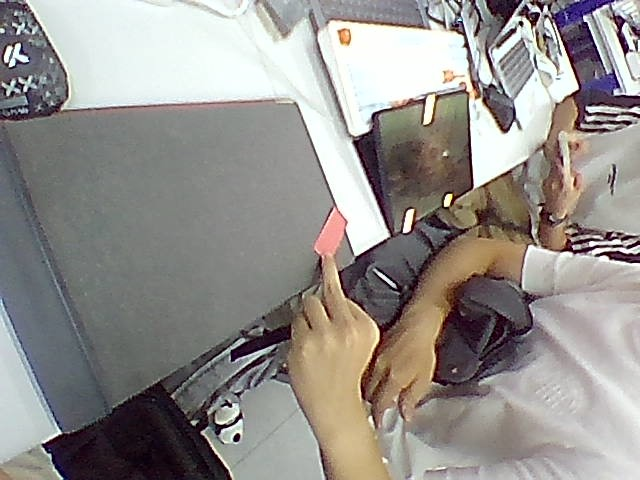card: (313, 207, 348, 255)
